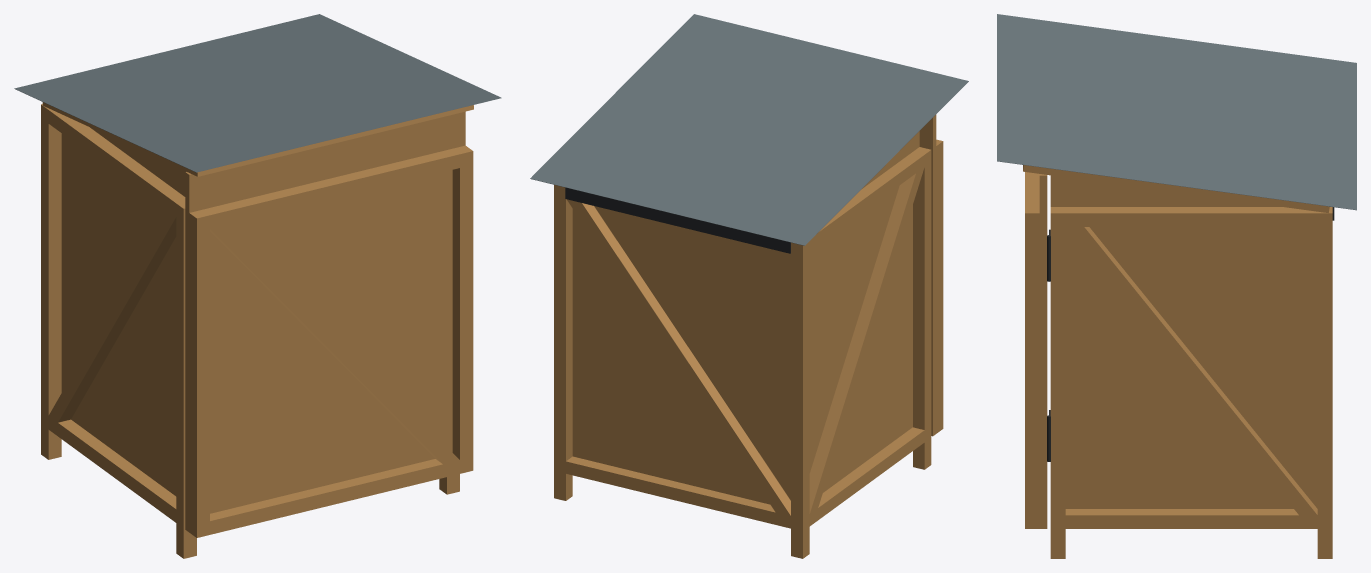
Rendered from dass-closed.glb.
The picture shows the model from 3 angles, left to right: view 1: azimuth 30°, elevation 25°; view 2: azimuth 150°, elevation 25°; view 3: azimuth 270°, elevation 25°; orthographic projection. The views are drawn at different scales.
Parts seen in each view (by area): view 1: door_panel, roof, left_wall, door_right, door_left, back_post_left, door_brace, door_top, door_bottom, left_brace, front_post_left, left_top (+3 smaller); view 2: roof, back_wall, left_wall, back_brace, left_brace, back_post_left, back_post_right, front_post_left, back_bottom, roof_hinge_fixed, left_bottom, left_top (+3 smaller); view 3: right_wall, roof, right_brace, back_post_right, front_post_right, right_top, right_bottom, door_right, door_panel, roof_right, door_top.
Boxes of the visible parts, x1=… form: door_panel: x1=185, y1=111, x2=465, y2=532; roof: x1=14, y1=14, x2=501, y2=172; left_wall: x1=61, y1=127, x2=185, y2=496; door_right: x1=452, y1=145, x2=473, y2=473; door_left: x1=189, y1=210, x2=209, y2=537; back_post_left: x1=41, y1=104, x2=61, y2=459; door_brace: x1=210, y1=225, x2=459, y2=464; door_top: x1=202, y1=148, x2=459, y2=228; door_bottom: x1=210, y1=459, x2=459, y2=534; left_brace: x1=48, y1=210, x2=176, y2=422; front_post_left: x1=176, y1=201, x2=196, y2=558; left_top: x1=48, y1=109, x2=185, y2=216; roof: x1=530, y1=14, x2=968, y2=245; back_wall: x1=578, y1=206, x2=790, y2=504; left_wall: x1=809, y1=131, x2=919, y2=492; back_brace: x1=567, y1=199, x2=790, y2=516; left_brace: x1=809, y1=167, x2=924, y2=513; back_post_left: x1=791, y1=241, x2=809, y2=558; back_post_right: x1=554, y1=185, x2=572, y2=500; front_post_left: x1=913, y1=147, x2=931, y2=469; back_bottom: x1=566, y1=456, x2=790, y2=528; roof_hinge_fixed: x1=565, y1=187, x2=790, y2=253; left_bottom: x1=809, y1=427, x2=924, y2=526; left_top: x1=809, y1=152, x2=924, y2=250; right_wall: x1=1050, y1=175, x2=1317, y2=508; roof: x1=997, y1=14, x2=1356, y2=210; right_brace: x1=1066, y1=227, x2=1317, y2=515; back_post_right: x1=1317, y1=207, x2=1332, y2=558; front_post_right: x1=1050, y1=207, x2=1065, y2=558; right_top: x1=1065, y1=207, x2=1317, y2=226; right_bottom: x1=1065, y1=509, x2=1317, y2=528; door_right: x1=1025, y1=207, x2=1039, y2=528; door_panel: x1=1039, y1=174, x2=1047, y2=528; roof_right: x1=1038, y1=167, x2=1314, y2=210; door_top: x1=1025, y1=172, x2=1039, y2=206.
Size of the model in its own units: 1050 by 1347 by 1085.
